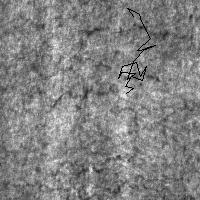crazing: (10, 15, 172, 109), (1, 140, 185, 199), (118, 8, 155, 93)
